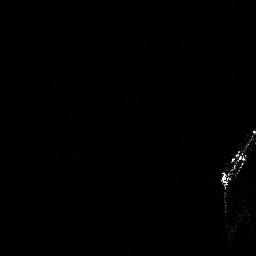ship: (220, 132, 256, 217)
